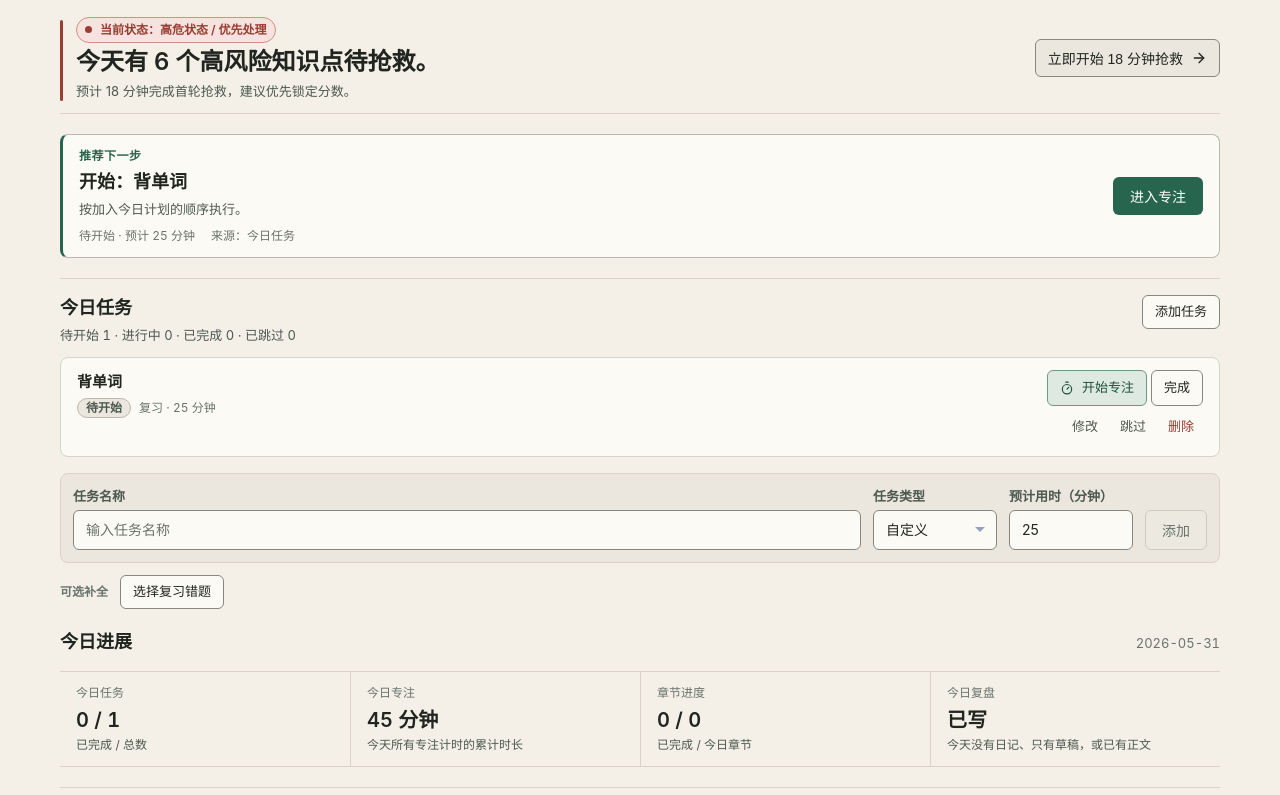
Test: HomeDashboard Component - Commander Engine › keeps the user on Home when task focus fails and reports the error
This screenshot has width=1280, height=795.
Click the button with aria-label "开始专注：背单词".
click(1097, 388)  # box 1047,370 -> 1147,406
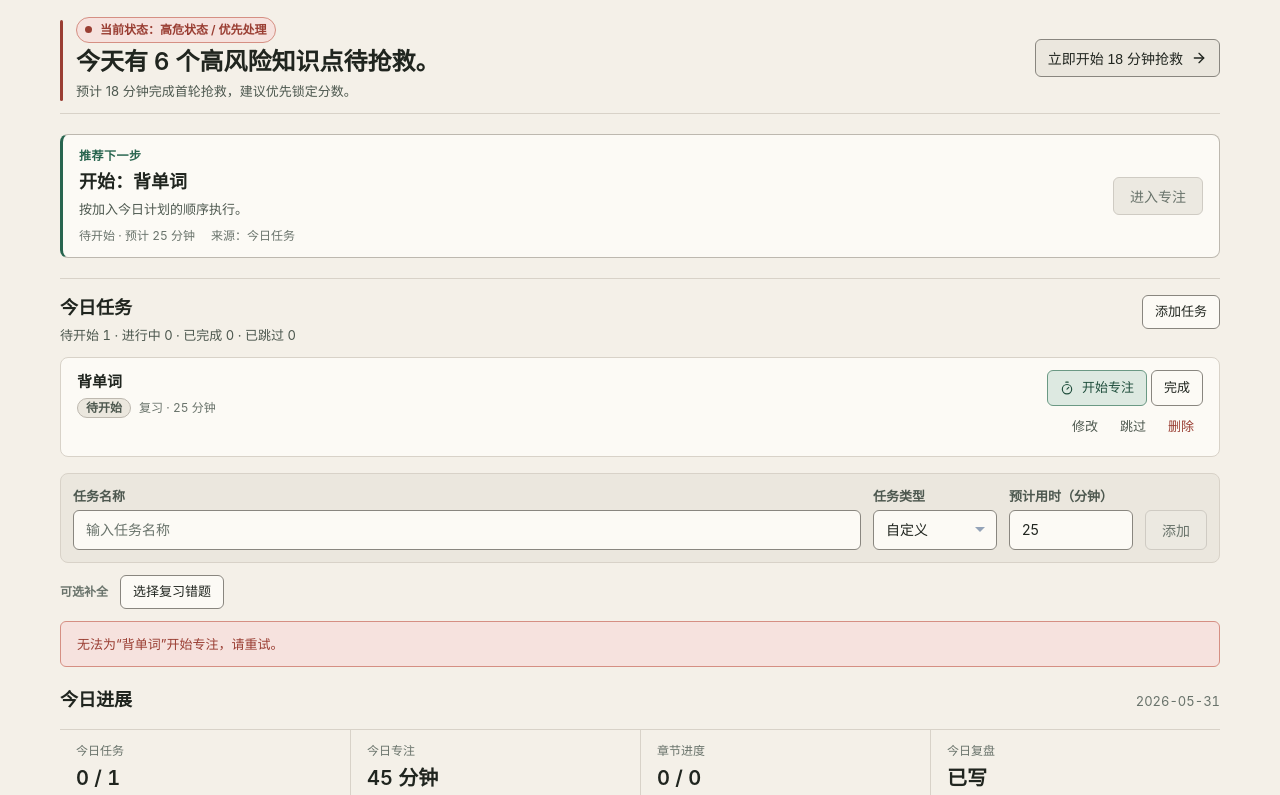
Check: the message with test id "task-error" shows "无法为“背单词”开始专注", box 77,636 -> 284,652
